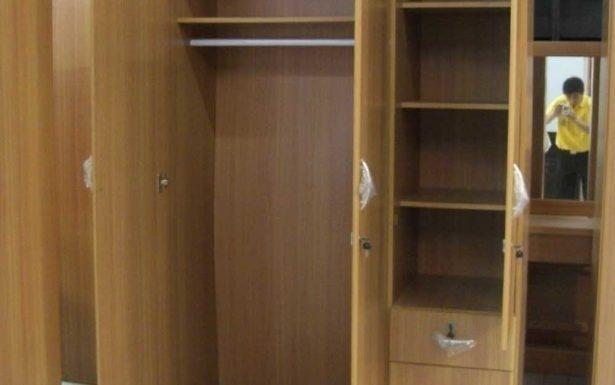Armario: (8, 4, 610, 380)
